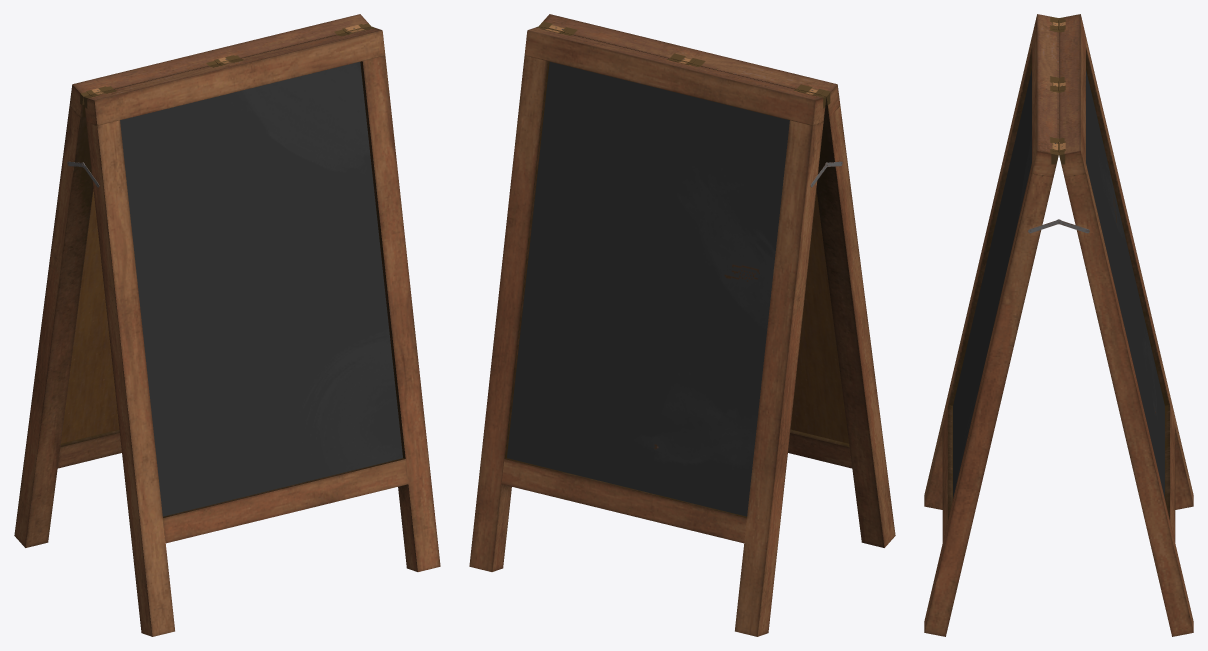
File: chalkboard.glb
3 views of the same model, side by side, from view 1: azimuth 30°, elevation 25°; view 2: azimuth 150°, elevation 25°; view 3: azimuth 270°, elevation 25° (orthographic). The views are drawn at different scales.
Parts seen in each view (by area): view 1: mesh; view 2: mesh; view 3: mesh.
Part boxes in pixels (x1,y1,x2,y2): mesh: (14, 14, 440, 636); mesh: (469, 14, 895, 636); mesh: (924, 14, 1193, 636).
Size of the model in its own units: 0.9195 by 1.51 by 0.7587.
Materials: 1 (1 with a texture image).
